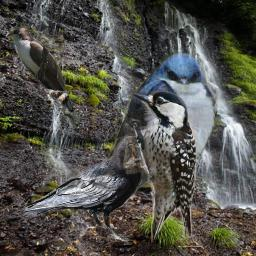Crow: (20, 133, 158, 242)
Cuckoo: (6, 27, 83, 129)
Swallow: (88, 51, 219, 213)
Woodpecker: (122, 90, 196, 243)
